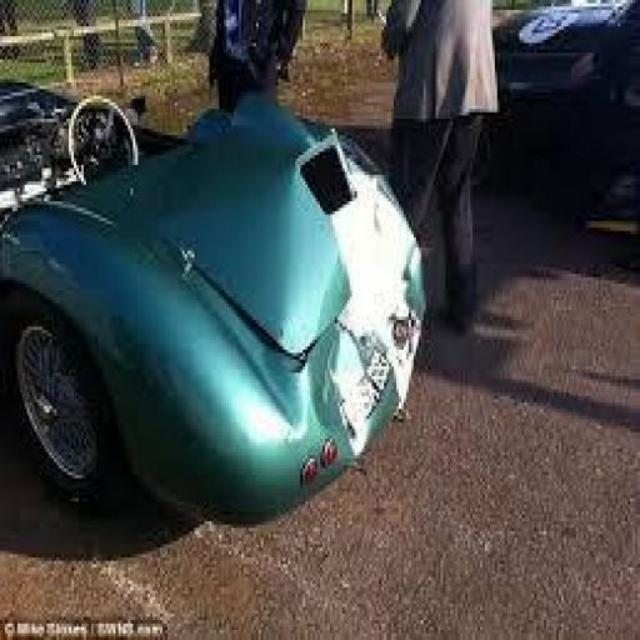dent: (226, 169, 429, 466)
